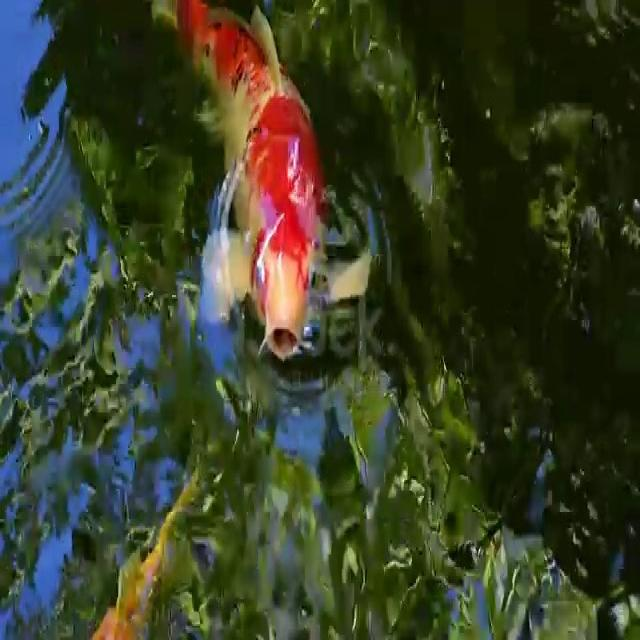fish: (149, 0, 387, 372), (91, 487, 206, 640)
